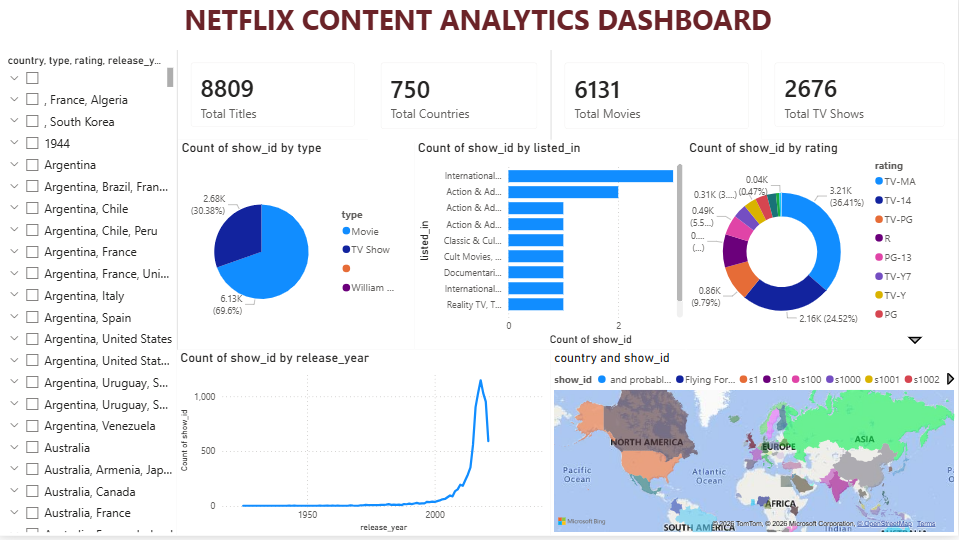

This screenshot's page, from the dashboard's own definition file:
{"tool":"powerbi","page":{"name":"Page 1","canvas":[1280,720],"ordinal":0},"visuals":[{"type":"cardVisual","fields":{"Data":["netflix_titles.Total Titles"]},"box":[240,71.7,253.3,120],"z":0},{"type":"cardVisual","fields":{"Data":["netflix_titles.Total Movies"]},"box":[738.3,71.7,280,123.3],"z":1000},{"type":"cardVisual","fields":{"Data":["netflix_titles.Total TV Shows"]},"box":[1018.3,71.7,261.7,120],"z":2000},{"type":"cardVisual","fields":{"Data":["netflix_titles.Total Countries"]},"box":[493.3,71.7,243.3,123.3],"z":3000},{"type":"pieChart","fields":{"Category":["netflix_titles.type"],"Y":["CountNonNull(netflix_titles.show_id)"]},"box":[240,191.7,315,280],"z":4000},{"type":"barChart","fields":{"Category":["netflix_titles.listed_in"],"Y":["CountNonNull(netflix_titles.show_id)"]},"box":[555,191.7,363.3,280],"z":5000},{"type":"lineChart","fields":{"Y":["CountNonNull(netflix_titles.show_id)"],"Category":["netflix_titles.release_year"]},"box":[238.3,471.7,498.3,248.3],"z":6000},{"type":"filledMap","fields":{"Category":["netflix_titles.country"],"Series":["netflix_titles.show_id"]},"box":[736.7,471.7,543.3,248.3],"z":7000},{"type":"donutChart","fields":{"Category":["netflix_titles.rating"],"Y":["CountNonNull(netflix_titles.show_id)"]},"box":[916.7,191.7,363.3,280],"z":8000},{"type":"slicer","fields":{"Values":["netflix_titles.country","netflix_titles.type","netflix_titles.rating","netflix_titles.release_year"]},"box":[0,71.7,238.3,648.3],"z":9000},{"type":"textbox","box":[0,0,1280,71.7],"z":10000}]}

Visuals, with their boxes on the page's 1280x720 design canvas (x1, y1, x2, y2). These are canvas units, not pixel positions in the 959x540 screenshot, which may show the page scaled, cropped or inside an application window:
cardVisual - netflix_titles.Total Titles: 240, 72, 493, 192
cardVisual - netflix_titles.Total Movies: 738, 72, 1018, 195
cardVisual - netflix_titles.Total TV Shows: 1018, 72, 1280, 192
cardVisual - netflix_titles.Total Countries: 493, 72, 737, 195
pieChart - netflix_titles.type x CountNonNull(netflix_titles.show_id): 240, 192, 555, 472
barChart - netflix_titles.listed_in x CountNonNull(netflix_titles.show_id): 555, 192, 918, 472
lineChart - CountNonNull(netflix_titles.show_id) x netflix_titles.release_year: 238, 472, 737, 720
filledMap - netflix_titles.country x netflix_titles.show_id: 737, 472, 1280, 720
donutChart - netflix_titles.rating x CountNonNull(netflix_titles.show_id): 917, 192, 1280, 472
slicer - netflix_titles.country x netflix_titles.type: 0, 72, 238, 720
textbox: 0, 0, 1280, 72
